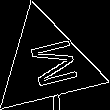M_W: (17, 35, 77, 93)
